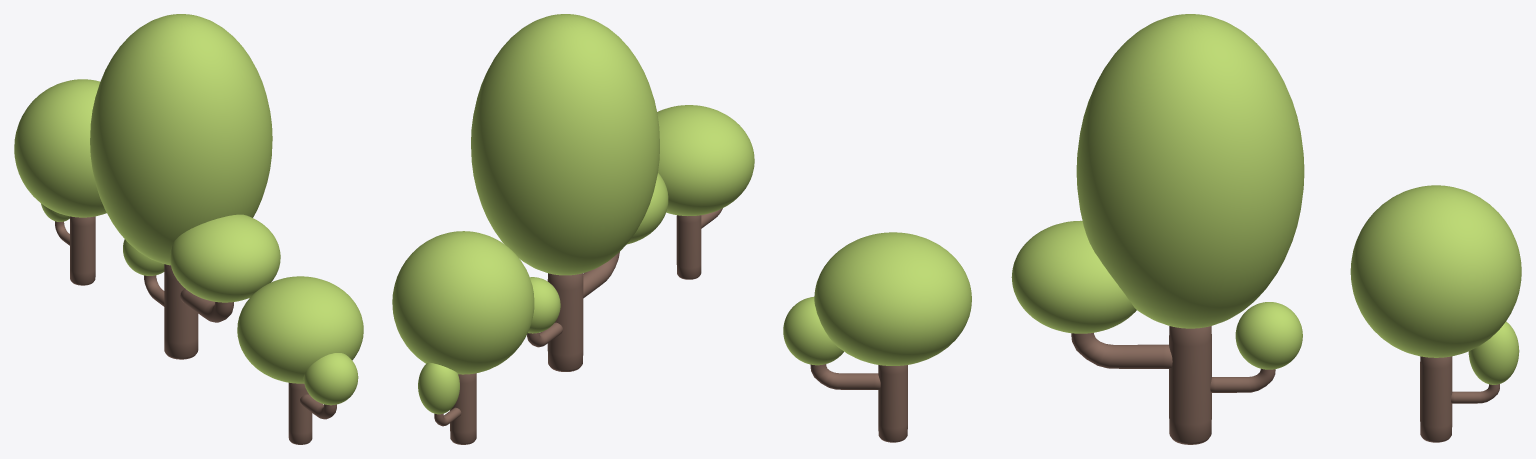
Rendered from trees.fbx.
3 renders of one model, left to right at view 1: azimuth 30°, elevation 25°; view 2: azimuth 150°, elevation 25°; view 3: azimuth 270°, elevation 25°, orthographic. The views are drawn at different scales.
Visible parts, largest first — view 1: leaf.001, leaf.004, leaf.005, leaf.002, trunk, leaf, trunk.005, trunk.003, trunk.001, leaf.003, trunk.004, trunk.002; view 2: leaf.001, leaf.005, leaf.004, trunk, leaf.007, trunk.003, trunk.005, leaf.003, leaf.002, trunk.001, trunk.002; view 3: leaf.001, leaf.005, leaf.004, leaf.002, trunk, leaf.003, trunk.005, leaf, trunk.001, trunk.003, leaf.007, trunk.004 (+1 smaller).
Boxes of the visible parts, x1,y1,x2,y2 form: leaf.001: (90, 14, 272, 265); leaf.004: (237, 276, 363, 383); leaf.005: (14, 79, 106, 217); leaf.002: (170, 214, 280, 302); trunk: (164, 264, 198, 359); leaf: (303, 353, 358, 405); trunk.005: (70, 216, 95, 285); trunk.003: (288, 382, 312, 444); trunk.001: (180, 288, 233, 322); leaf.003: (123, 239, 164, 275); trunk.004: (300, 394, 336, 419); trunk.002: (144, 275, 164, 306); leaf.001: (471, 14, 659, 275); leaf.005: (392, 231, 534, 374); leaf.004: (657, 105, 754, 215); trunk: (547, 273, 583, 371); leaf.007: (418, 362, 459, 414); trunk.003: (676, 215, 701, 279); trunk.005: (450, 373, 476, 444); leaf.003: (528, 277, 560, 333); leaf.002: (627, 173, 668, 244); trunk.001: (583, 252, 619, 298); trunk.002: (527, 322, 562, 347); leaf.001: (1076, 14, 1304, 328); leaf.005: (1350, 185, 1521, 357); leaf.004: (814, 232, 971, 365); leaf.002: (1011, 220, 1136, 333); trunk: (1169, 326, 1211, 444); leaf.003: (1235, 302, 1302, 369); trunk.005: (1420, 356, 1452, 442); leaf: (783, 297, 843, 365); trunk.001: (1071, 333, 1172, 368); trunk.003: (878, 365, 907, 442); leaf.007: (1468, 321, 1519, 384); trunk.004: (810, 364, 880, 389).
Bounding box in the file's own units: 1523 × 3072 × 4936.
